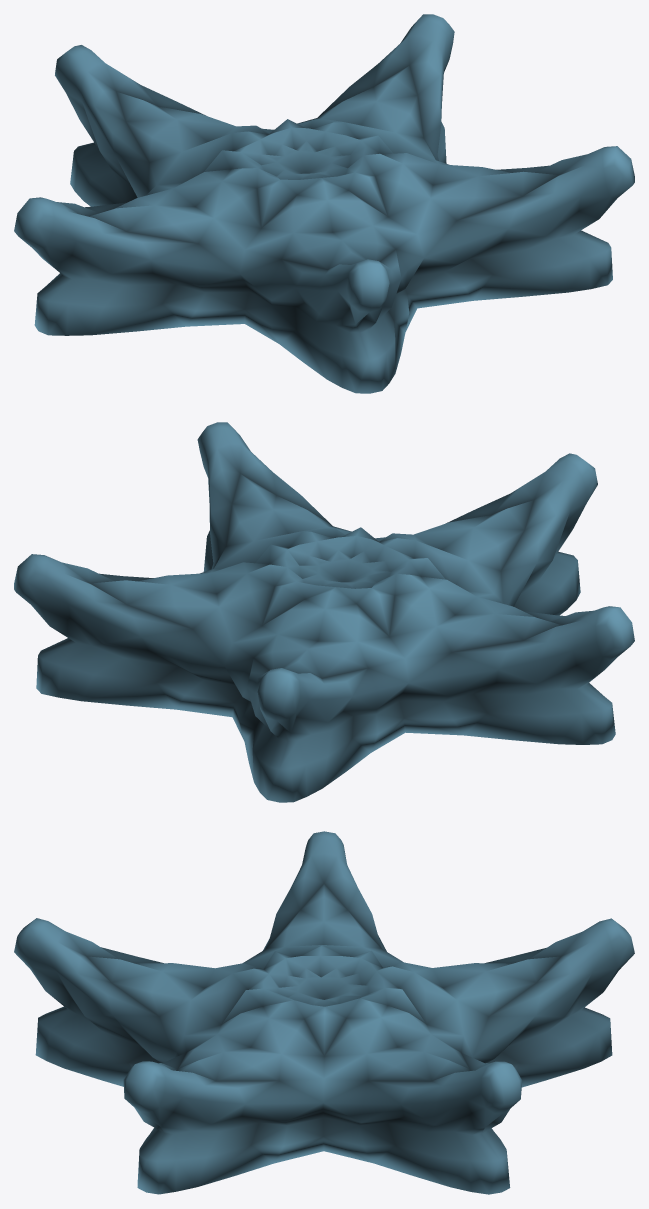
Rendered from microscopic-plankton-star-diatom_v1.fbx.
3 views of the same model, one above another, from view 1: azimuth 30°, elevation 25°; view 2: azimuth 150°, elevation 25°; view 3: azimuth 270°, elevation 25° (orthographic). The views are drawn at different scales.
Visible parts, largest first — view 1: Star Diatom; view 2: Star Diatom; view 3: Star Diatom.
Boxes of the visible parts, box(x1,y1,x2,y2) form: Star Diatom: box(14, 14, 634, 393); Star Diatom: box(14, 422, 634, 802); Star Diatom: box(14, 831, 634, 1194).
Bounding box in the file's own units: 0.0954 × 0.0229 × 0.1.
